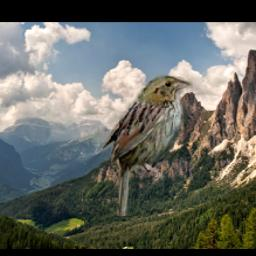Sparrow: (102, 74, 192, 217)
